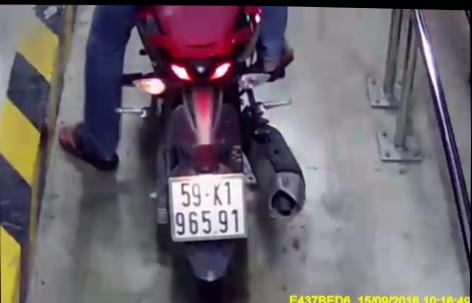LP: (166, 169, 249, 243)
